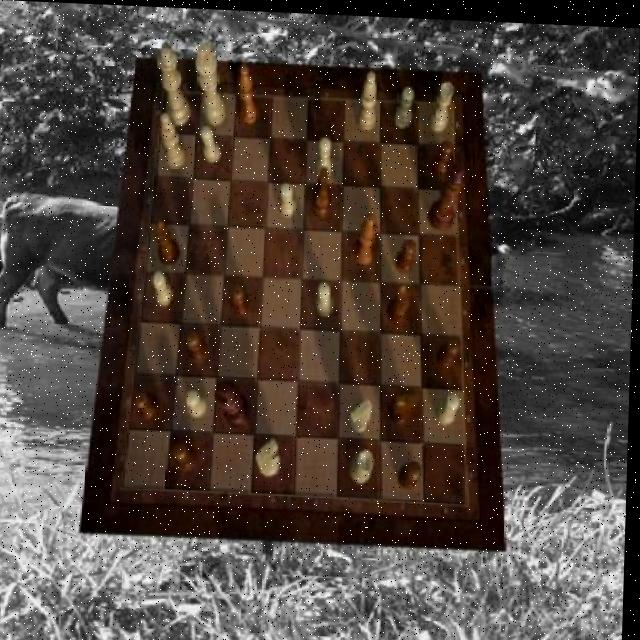bishop: (237, 62, 260, 123), (355, 210, 379, 261)
black-bishop: (216, 377, 253, 426)
black-king: (312, 163, 333, 217), (392, 390, 422, 422)
black-knight: (135, 388, 162, 420), (432, 135, 454, 174), (186, 328, 210, 363), (437, 334, 462, 367), (396, 234, 418, 271), (231, 281, 252, 316), (175, 440, 199, 469), (400, 458, 424, 486)
black-pawn: (430, 158, 469, 228)
black-queen: (153, 220, 181, 265), (388, 280, 414, 323)
black-rook: (159, 110, 187, 167), (357, 70, 377, 130)
white-bishop: (194, 41, 228, 126)
white-king: (257, 436, 282, 475), (347, 394, 374, 430)
white-knight: (200, 122, 222, 161), (152, 269, 176, 304), (394, 83, 414, 125), (438, 388, 462, 422), (316, 134, 334, 175), (187, 389, 210, 417), (317, 279, 335, 314), (279, 179, 297, 214)
white-pawn: (154, 44, 191, 125)
white-queen: (429, 77, 454, 128), (353, 445, 378, 480)
